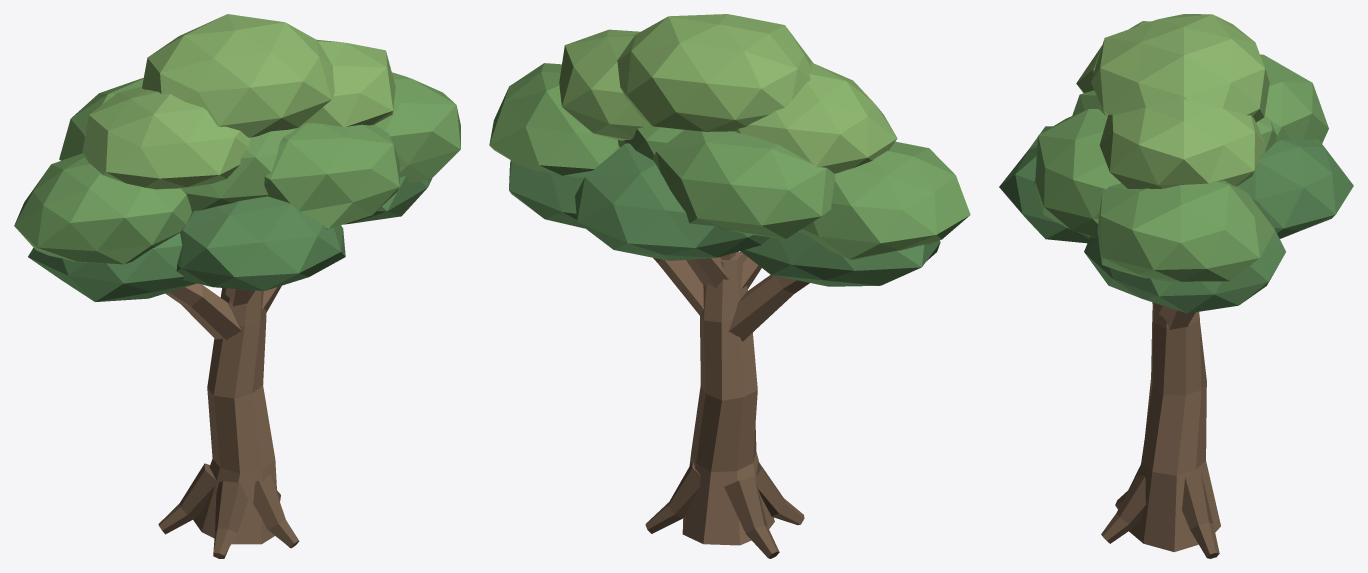
The model's file is OBS_N1_ArbolAlgarrobo.fbx.
The picture shows the model from 3 angles, left to right: view 1: azimuth 30°, elevation 25°; view 2: azimuth 150°, elevation 25°; view 3: azimuth 270°, elevation 25°; orthographic projection. The views are drawn at different scales.
Visible parts, largest first — view 1: OBS_N1_ArbolAlgarrobo; view 2: OBS_N1_ArbolAlgarrobo; view 3: OBS_N1_ArbolAlgarrobo.
Part boxes in pixels (left/top/right/bottom): OBS_N1_ArbolAlgarrobo: left=14, top=14, right=460, bottom=558; OBS_N1_ArbolAlgarrobo: left=489, top=14, right=970, bottom=558; OBS_N1_ArbolAlgarrobo: left=999, top=14, right=1353, bottom=558.
Size of the model in its own units: 7.8 by 8.57 by 5.44.
